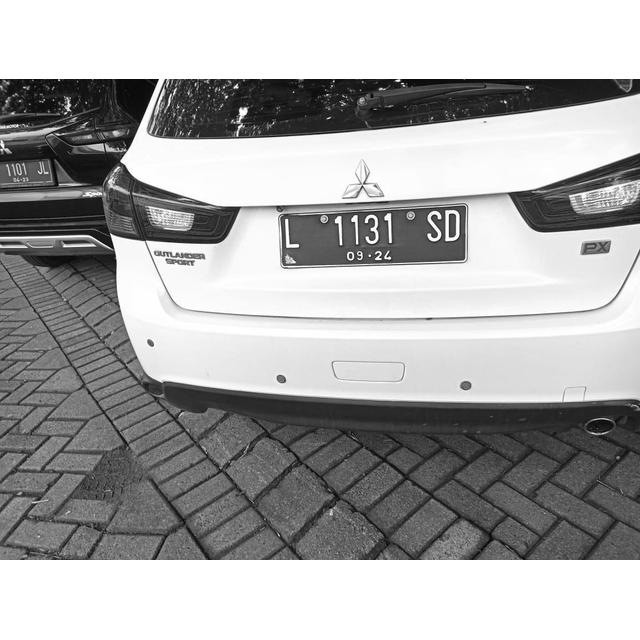license: (281, 204, 461, 265)
